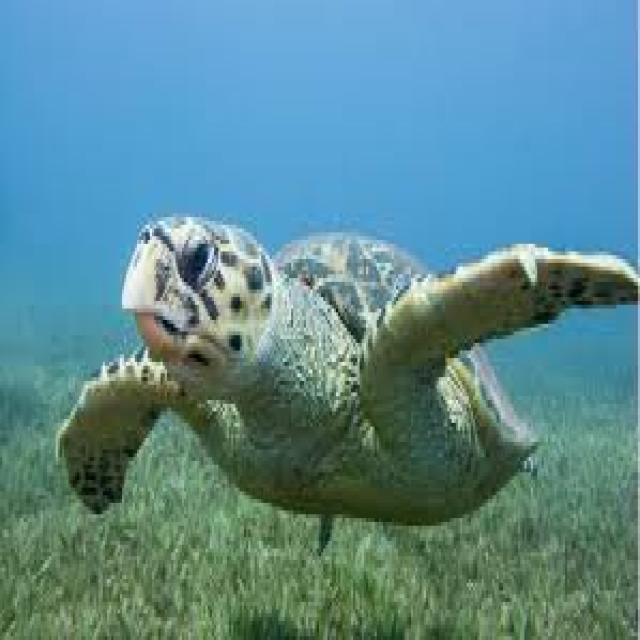turtle: (122, 200, 432, 514)
